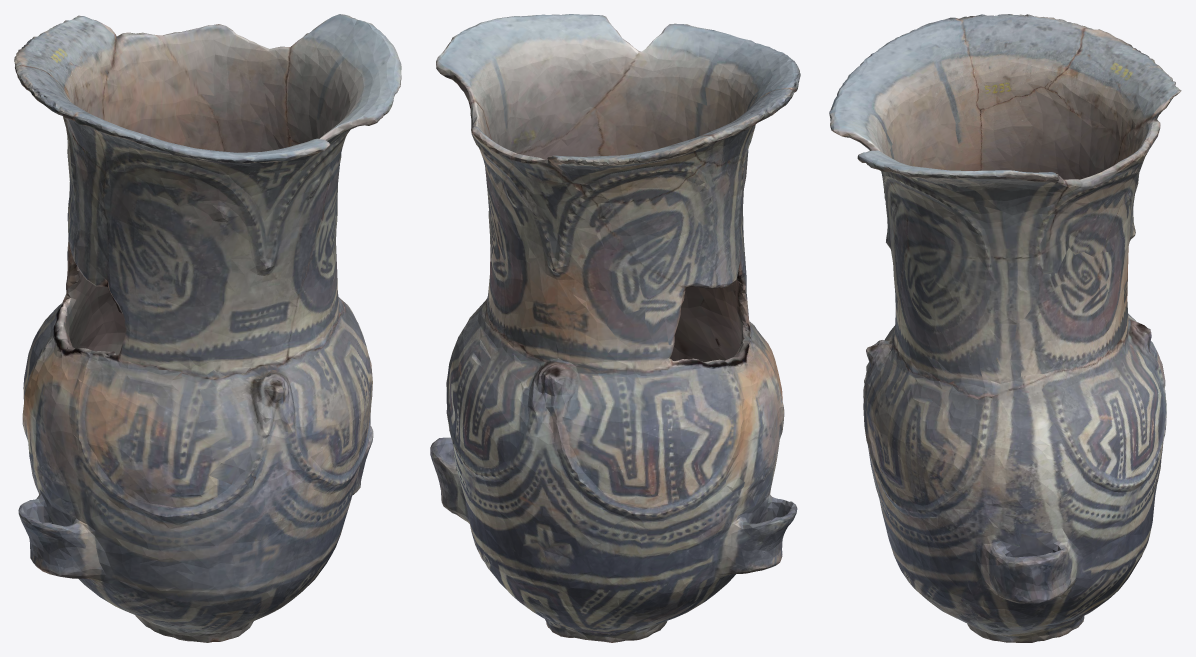
The picture shows the model from 3 angles, left to right: view 1: azimuth 30°, elevation 25°; view 2: azimuth 150°, elevation 25°; view 3: azimuth 270°, elevation 25°; orthographic projection. The views are drawn at different scales.
Visible parts, largest first — view 1: MA0482; view 2: MA0482; view 3: MA0482.
Boxes of the visible parts, bbox=[...] form: MA0482: bbox=[14, 14, 401, 642]; MA0482: bbox=[430, 14, 800, 642]; MA0482: bbox=[829, 14, 1181, 642].
Size of the model in its own units: 2.35 by 3.59 by 2.14.
Materials: 1 (1 with a texture image).
